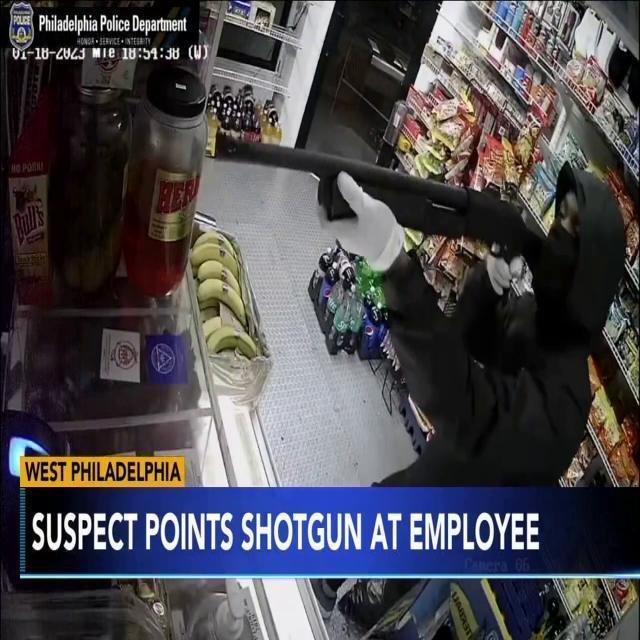pistol: (216, 125, 544, 288)
